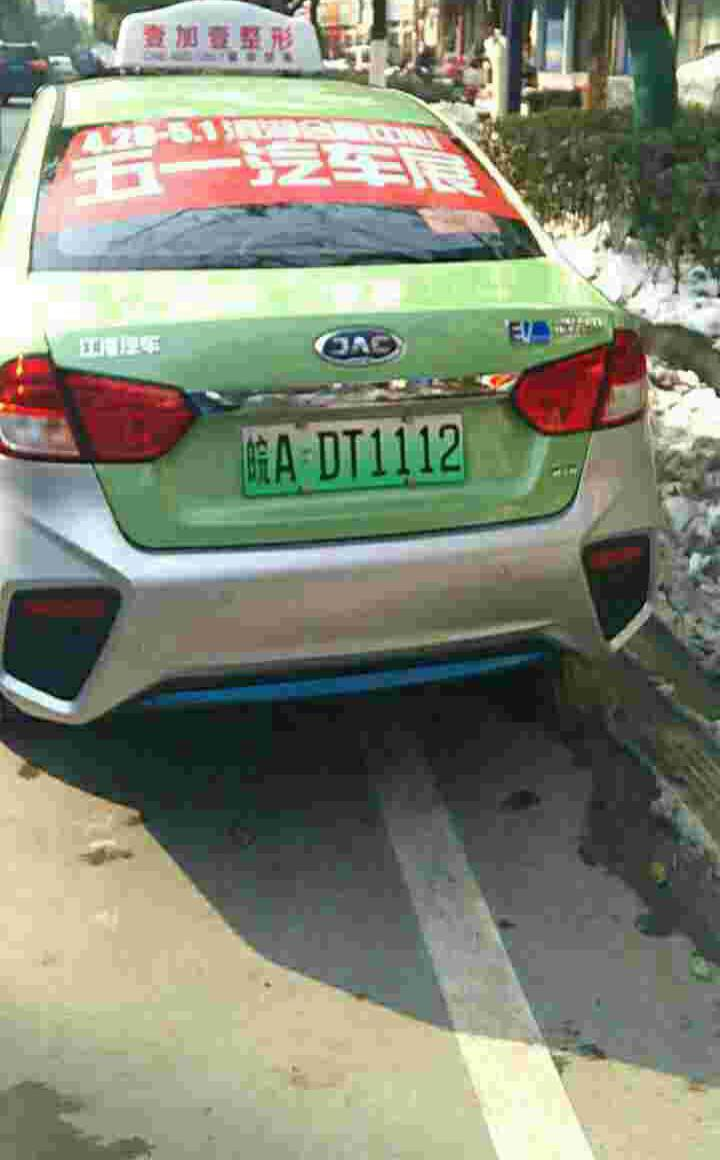car: (224, 422, 491, 487)
